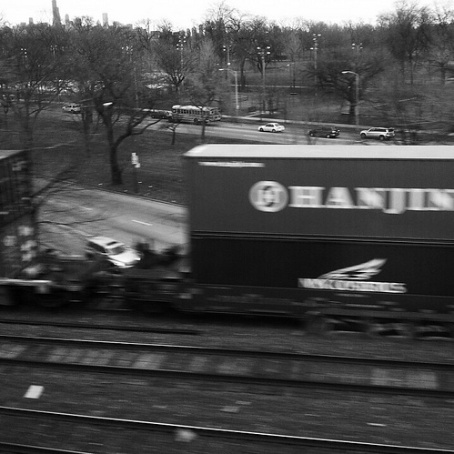bus: (169, 101, 221, 126)
car: (255, 117, 285, 133), (309, 120, 339, 136), (361, 123, 391, 139)
train track: (6, 324, 454, 454)
tree: (1, 149, 446, 333)
vegetation: (1, 22, 444, 107)
